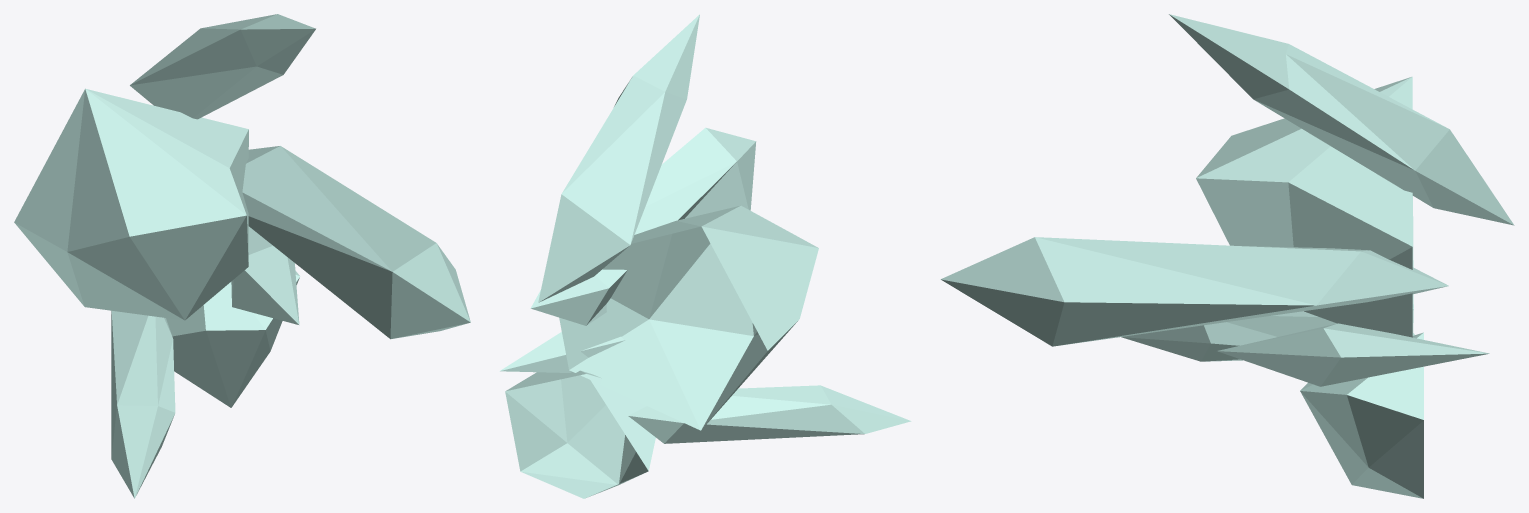
3 views of the same model, side by side, from view 1: azimuth 30°, elevation 25°; view 2: azimuth 150°, elevation 25°; view 3: azimuth 270°, elevation 25° (orthographic). The views are drawn at different scales.
Parts seen in each view (by area): view 1: Object80; view 2: Object80; view 3: Object80.
Part boxes in pixels (left/top/right/bottom): Object80: left=14, top=14, right=470, bottom=498; Object80: left=499, top=14, right=911, bottom=498; Object80: left=941, top=14, right=1514, bottom=498.
Size of the model in its own units: 23039 by 33056 by 36559.
